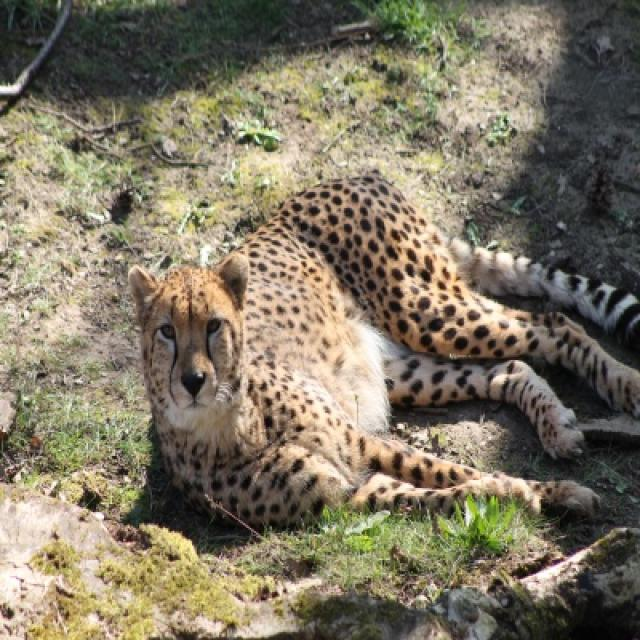Cheetah: (128, 173, 638, 534)
